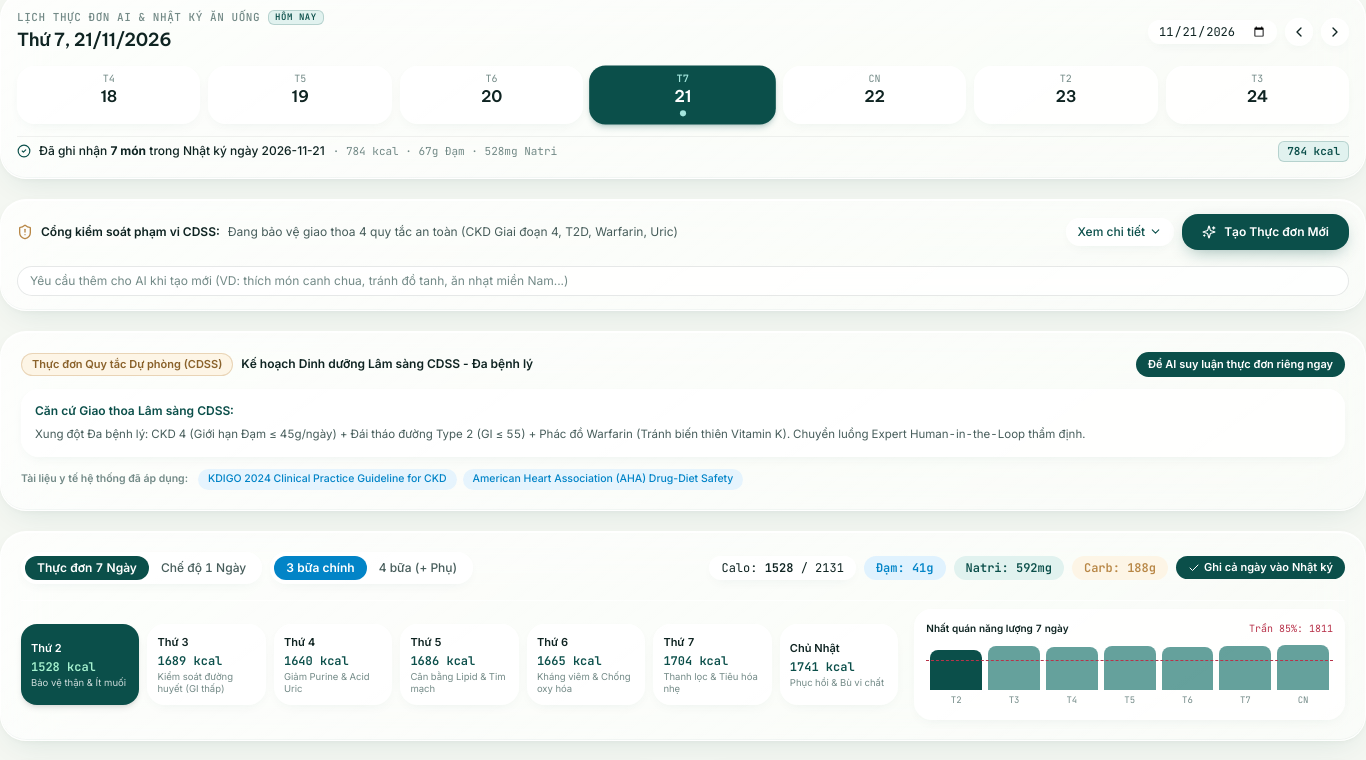
Test case: BOS-01..BOS-18 Supplementary QA Fixes & AI Evals › BOS-16: Planner supports 4 meals (Bữa phụ) and updateDishGramsInPlan preserves accuracy
Click the button "4 bữa (+ Phụ)".
click(418, 568)  # box left=367, top=556, right=469, bottom=580
(page scrolled)
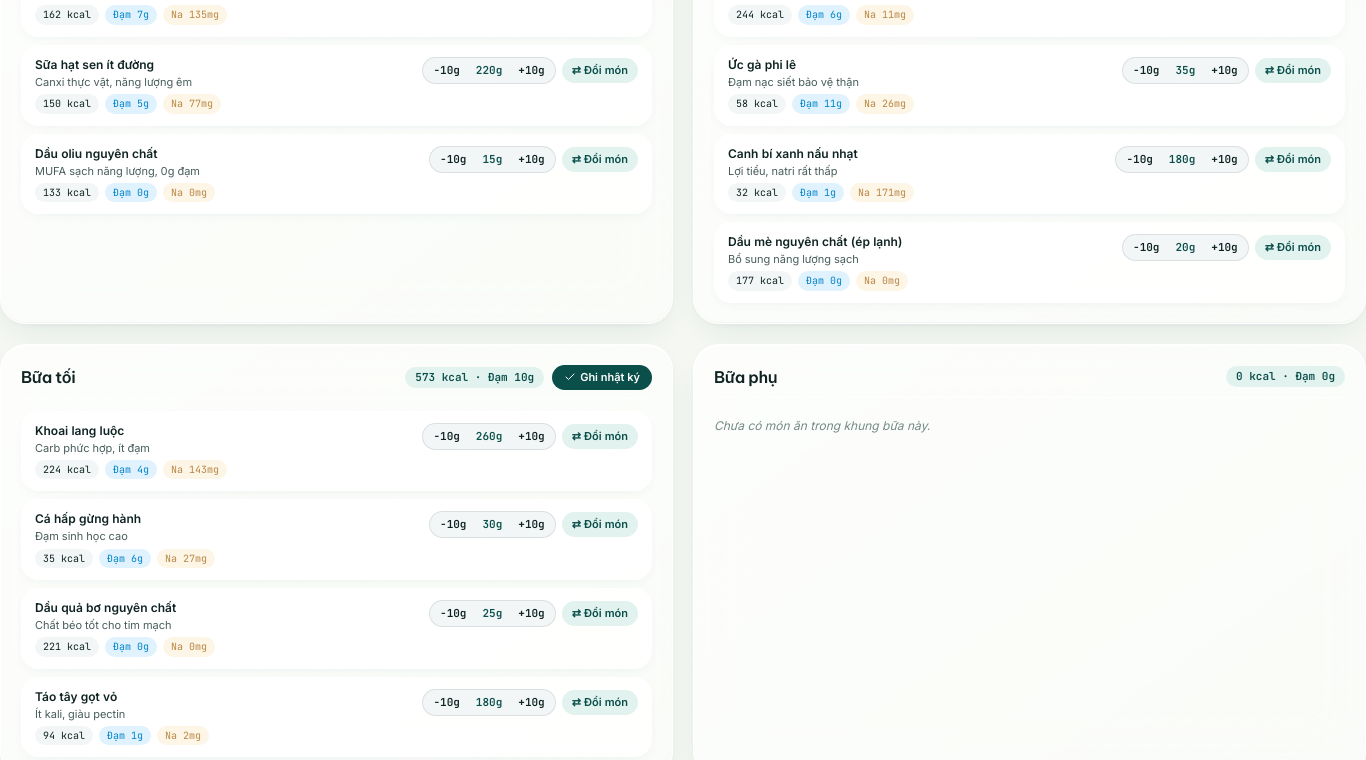
Expected: the heading "Bữa phụ" is shown, left=714, top=365, right=777, bottom=389
